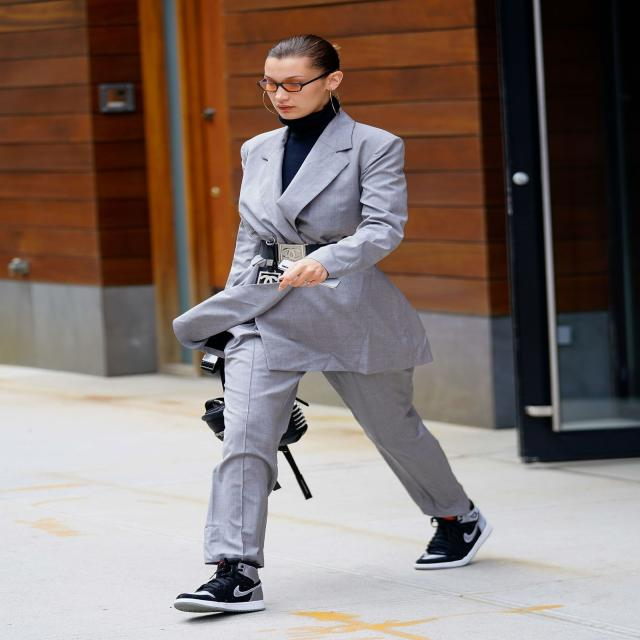nike: (458, 513, 492, 552), (225, 576, 268, 600)
